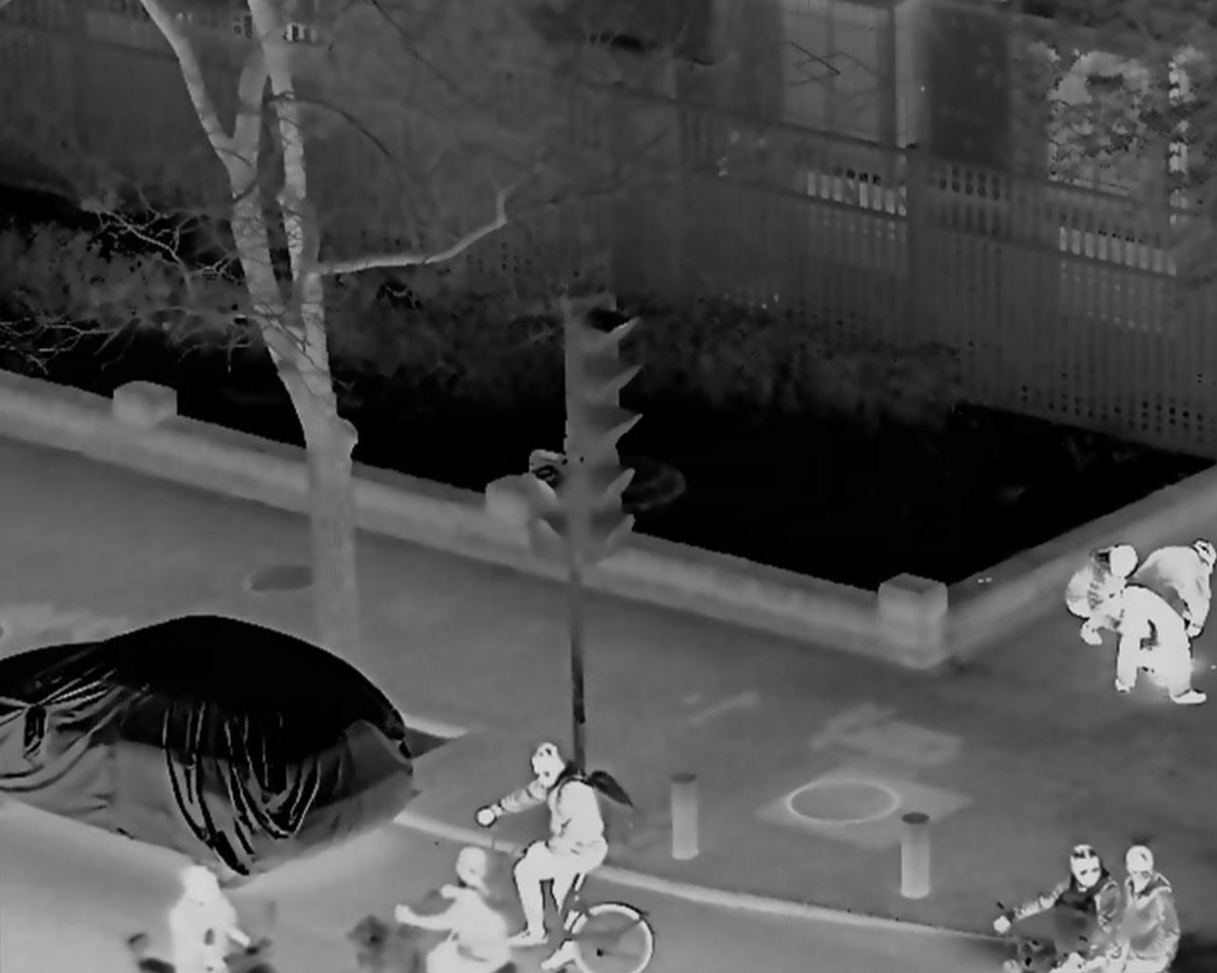person: (477, 740, 604, 965), (1117, 536, 1217, 708), (989, 847, 1119, 973), (396, 844, 507, 973), (1101, 846, 1178, 973), (167, 868, 248, 973), (1064, 542, 1134, 640)
